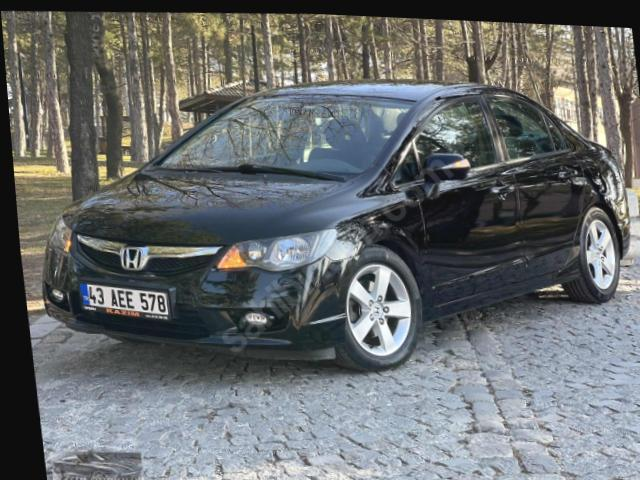plaka: (81, 284, 171, 319)
